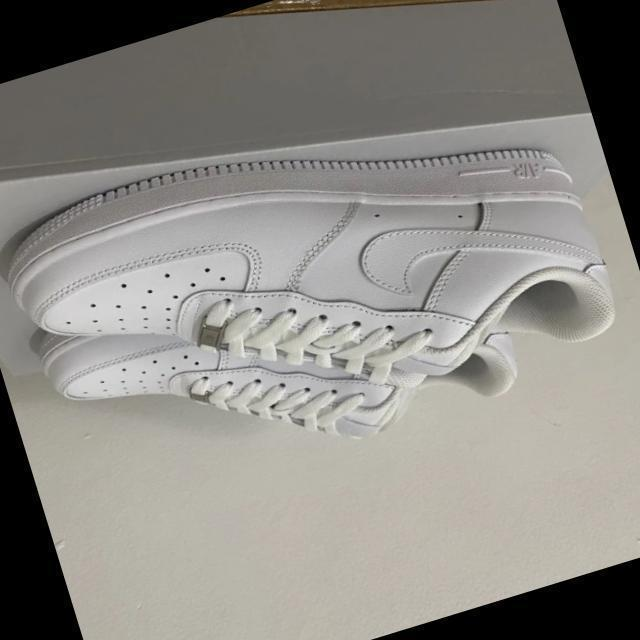nike original air force: (0, 42, 640, 495), (27, 199, 526, 524)
